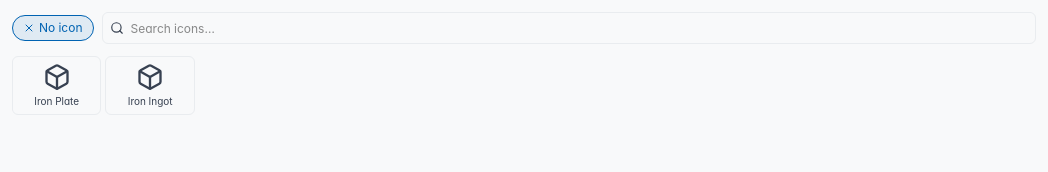
Scenario: <IconPicker /> › finds an icon by its display name, not just its class name
Step 1. Type "Iron Plate" into the search field with placeholder "Search icons…" → [569, 28], box [102,12,1036,44]
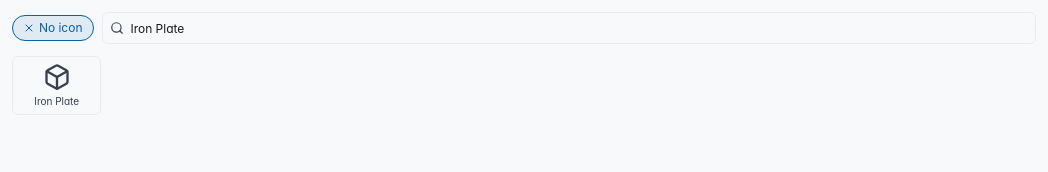
expect the text "Iron Plate" is shown: met, box [34,95,79,107]
expect the button "Iron Ingot" is gone: met
